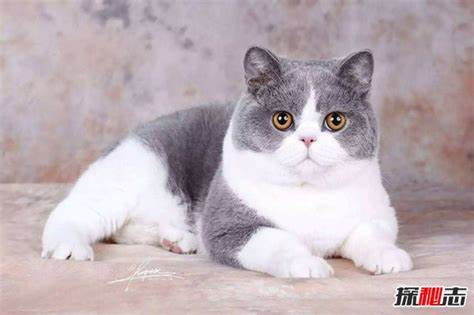猫: (40, 41, 412, 279)
